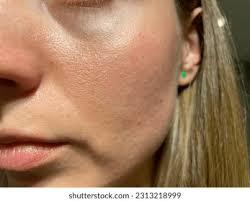Englarged-Pores: (34, 18, 143, 99)
Oily-Skin: (15, 13, 194, 172)
